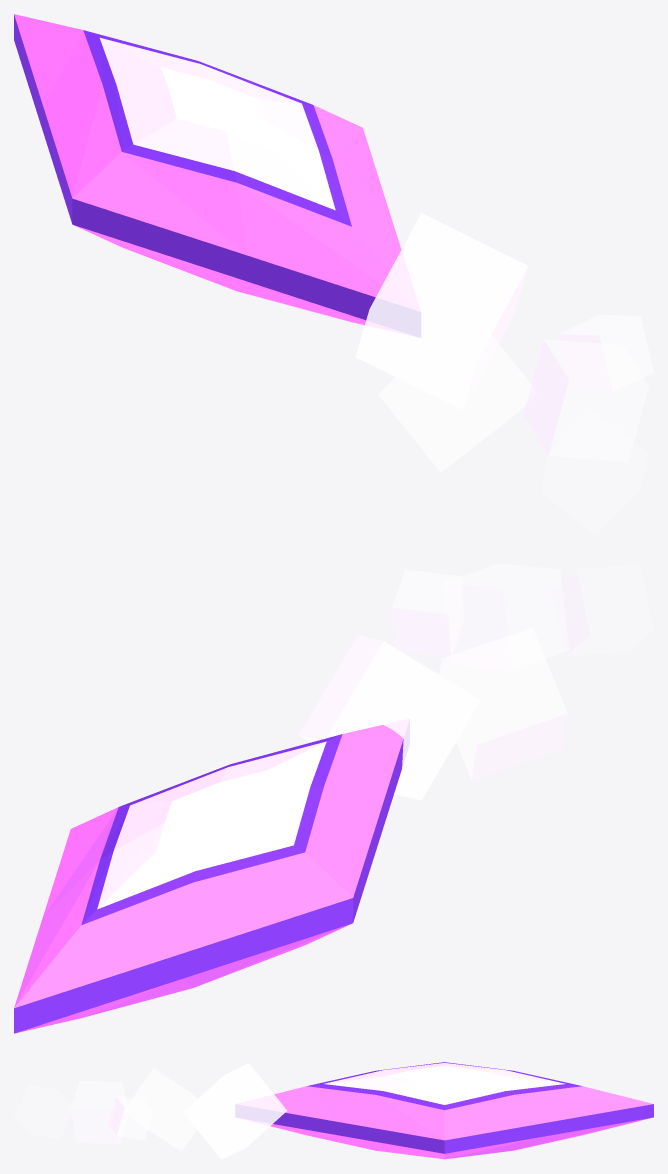
The model's file is hootmoss_staff_bolt.glb.
3 renders of one model, top to bottom at view 1: azimuth 30°, elevation 25°; view 2: azimuth 150°, elevation 25°; view 3: azimuth 270°, elevation 25°, orthographic. The views are drawn at different scales.
Parts seen in each view (by area): view 1: bolt_shard, tail_cube_1, tail_cube_2, tail_cube_4, tail_cube_5, tail_cube_3; view 2: bolt_shard, tail_cube_1, tail_cube_2, tail_cube_4, tail_cube_5, tail_cube_3; view 3: bolt_shard, tail_cube_1, tail_cube_2, tail_cube_4, tail_cube_5, tail_cube_3.
Boxes of the visible parts, left/top/right/bottom form: bolt_shard: left=14, top=14, right=420, bottom=333; tail_cube_1: left=355, top=213, right=528, bottom=409; tail_cube_2: left=378, top=314, right=537, bottom=472; tail_cube_4: left=524, top=339, right=648, bottom=461; tail_cube_5: left=541, top=411, right=647, bottom=533; tail_cube_3: left=558, top=314, right=653, bottom=391; bolt_shard: left=14, top=722, right=406, bottom=1033; tail_cube_1: left=299, top=635, right=480, bottom=800; tail_cube_2: left=439, top=628, right=567, bottom=779; tail_cube_4: left=443, top=563, right=568, bottom=669; tail_cube_5: left=561, top=564, right=653, bottom=656; tail_cube_3: left=392, top=569, right=464, bottom=657; bolt_shard: left=237, top=1062, right=653, bottom=1159; tail_cube_1: left=183, top=1063, right=287, bottom=1159; tail_cube_2: left=124, top=1068, right=198, bottom=1151; tail_cube_4: left=71, top=1081, right=127, bottom=1143; tail_cube_5: left=14, top=1085, right=71, bottom=1138; tail_cube_3: left=108, top=1096, right=152, bottom=1140.
Bounding box in the file's own units: 0.14 × 0.0852 × 0.5196.
